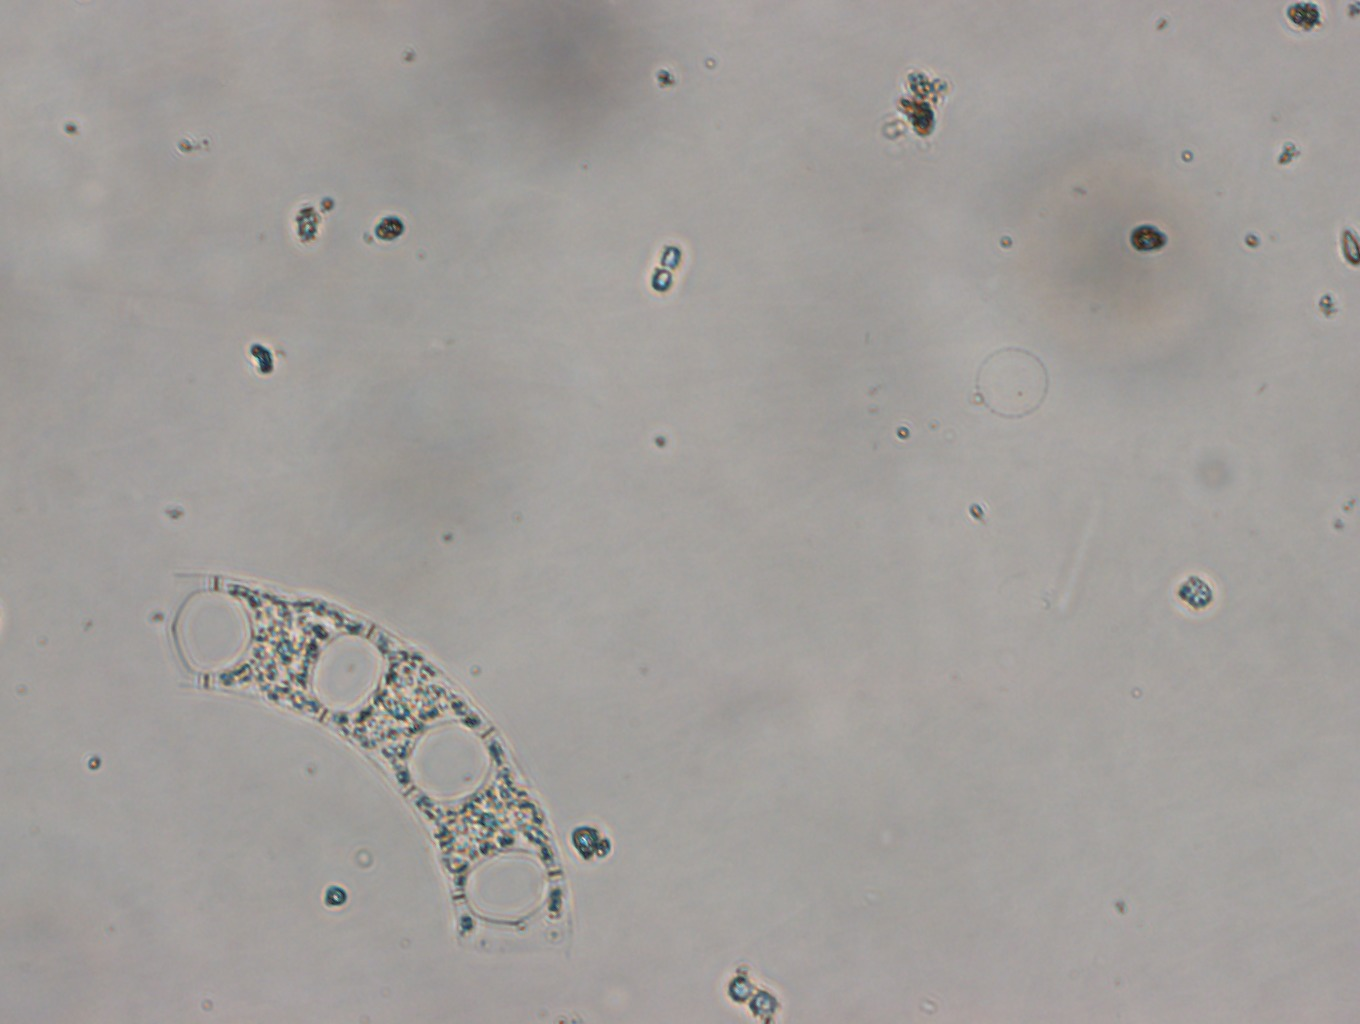eucampia: (162, 573, 574, 953)
